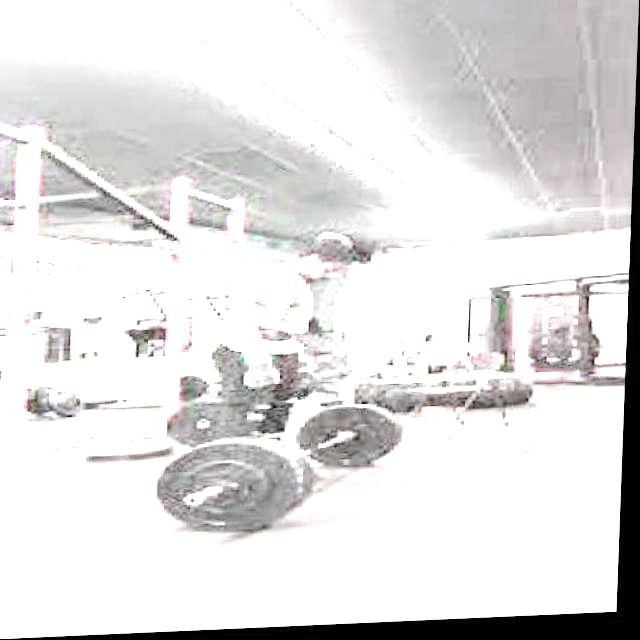barbell: (153, 435, 308, 544)
